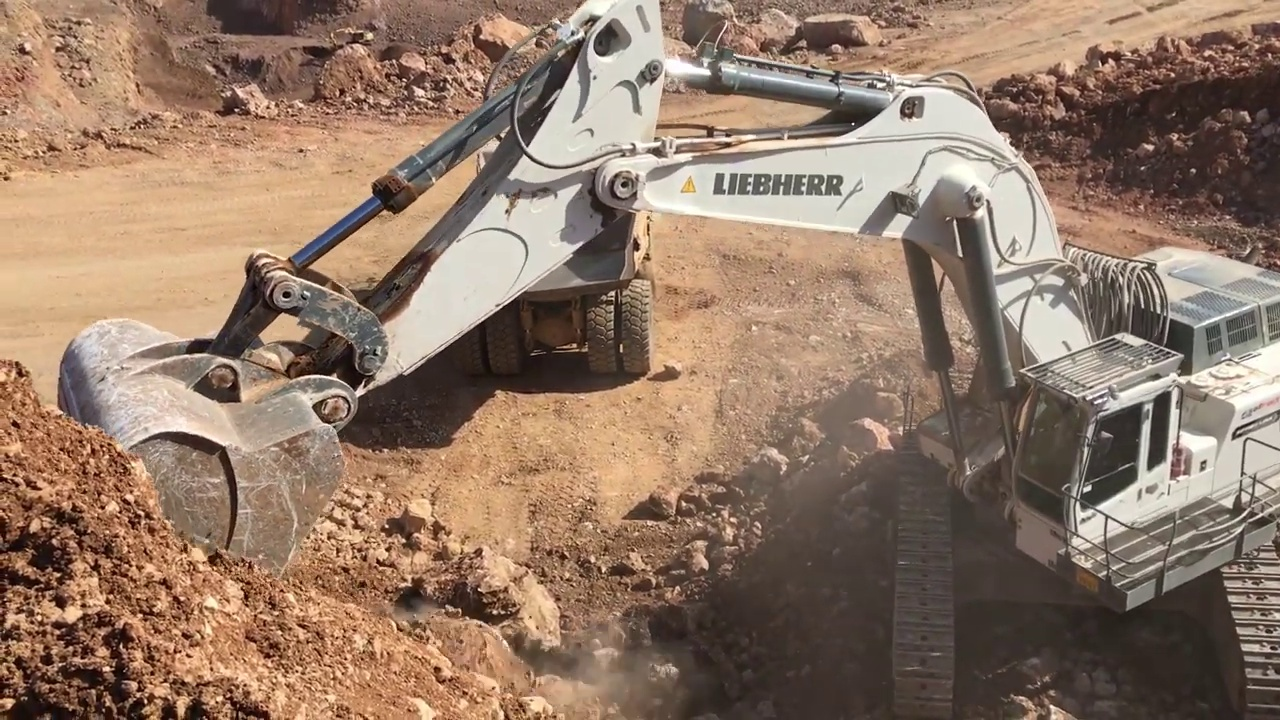dumper: (448, 203, 654, 378)
excavator: (54, 1, 1280, 708)
